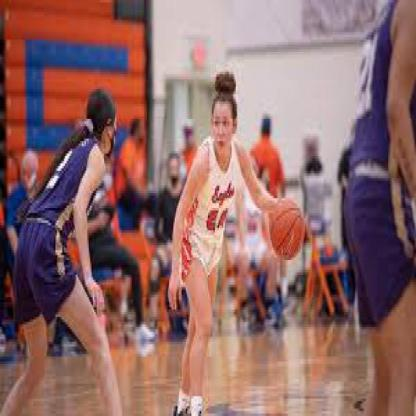basketball: (268, 198, 305, 260)
